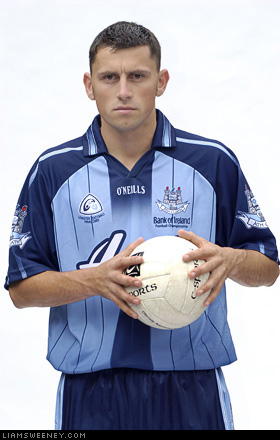ball: (17, 10, 250, 435), (120, 223, 216, 331)
